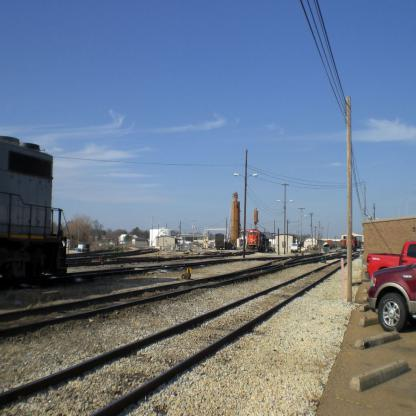Car: (368, 261, 415, 332)
Truck: (365, 241, 415, 280)
